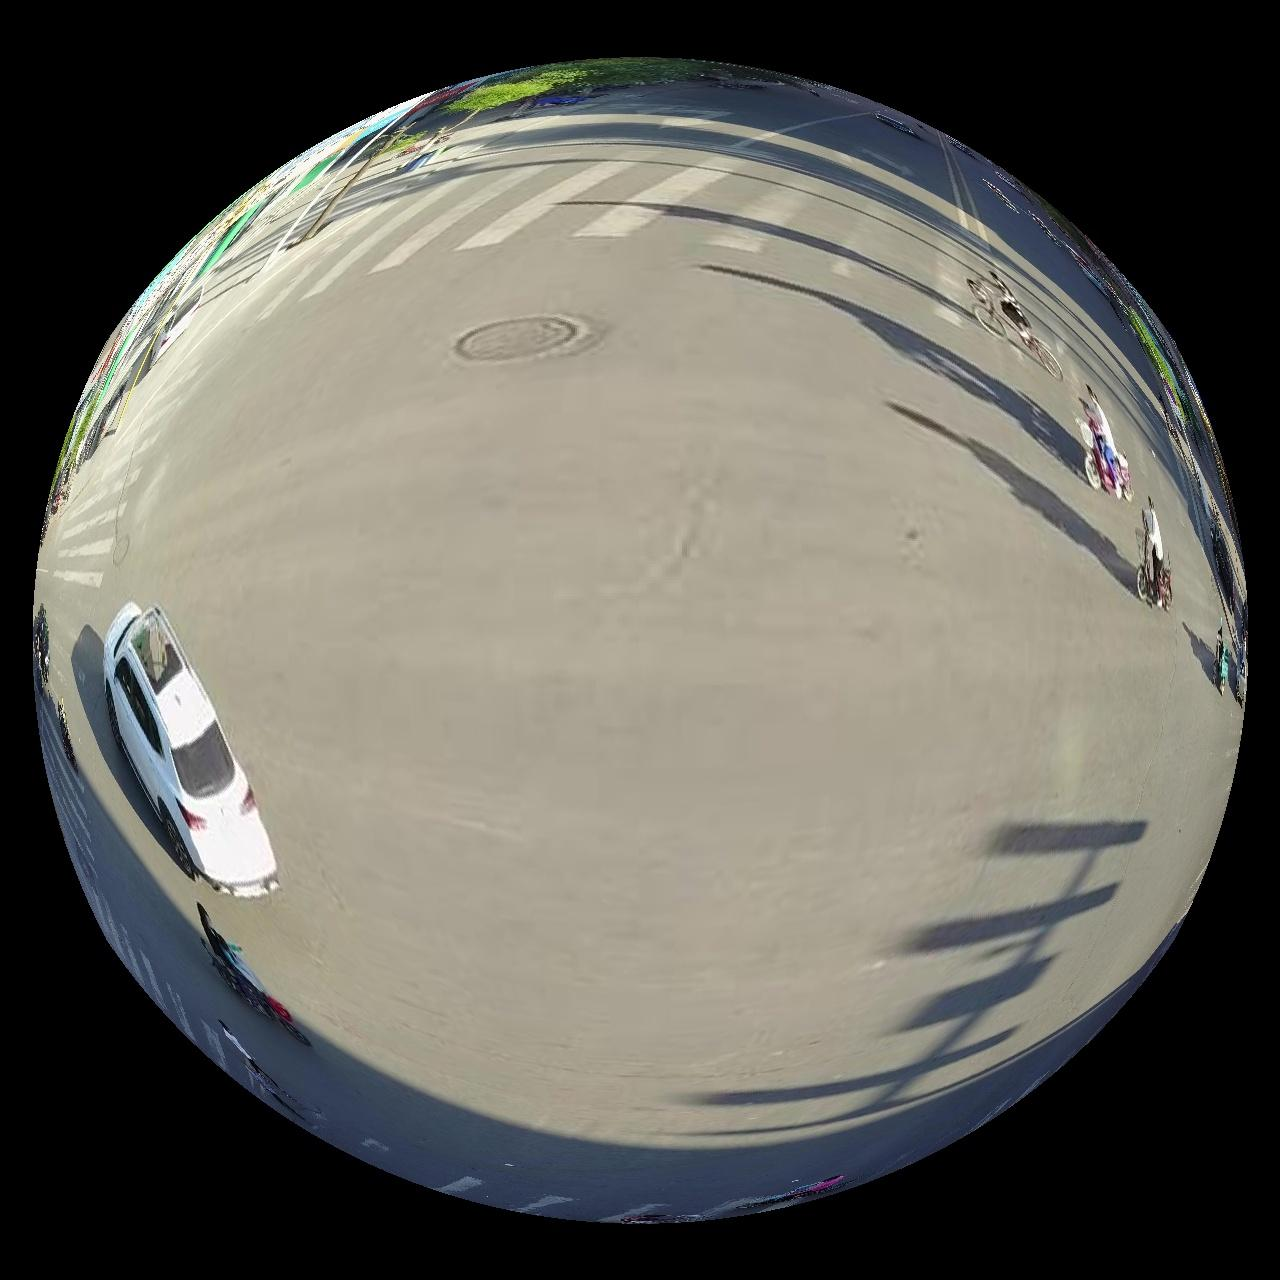cars: (103, 602, 277, 898)
